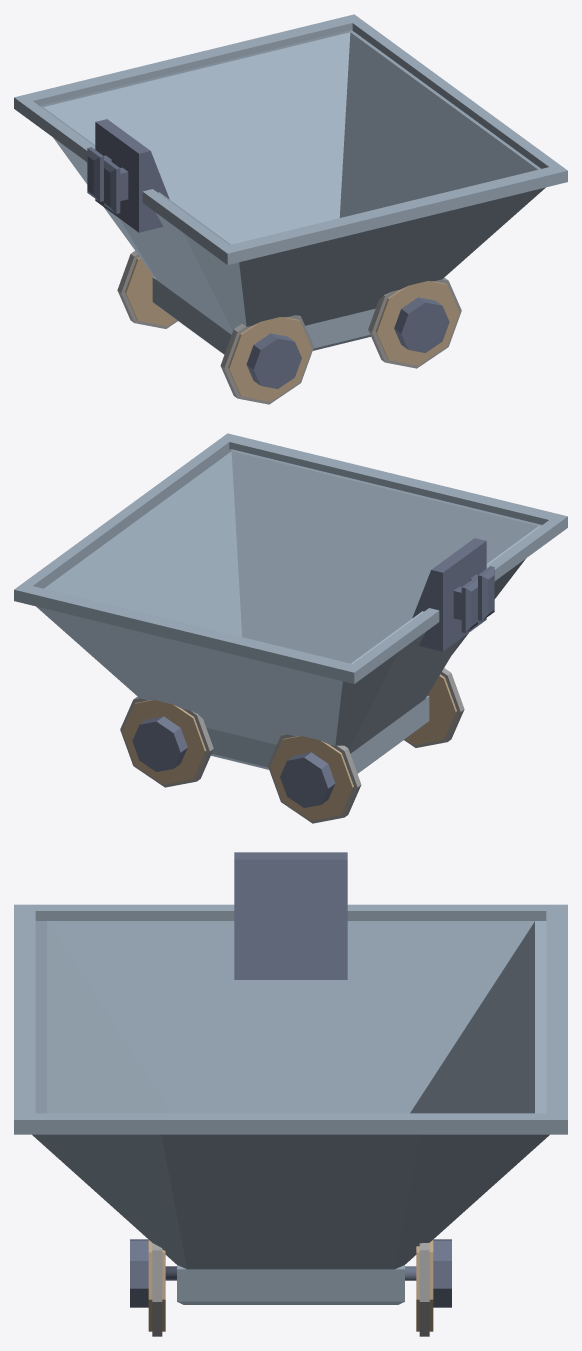
3 renders of one model, top to bottom at view 1: azimuth 30°, elevation 25°; view 2: azimuth 150°, elevation 25°; view 3: azimuth 270°, elevation 25°, orthographic. The views are drawn at different scales.
Visible parts, largest first — view 1: Cube.493, Cylinder.064, Cylinder.067, Cube.510; view 2: Cube.493, Cylinder.064, Cylinder.067, Cube.510; view 3: Cube.493, Cube.510, Cylinder.067.
Part boxes in pixels (bbox=[...]): Cube.493: bbox=[14, 14, 567, 354]; Cylinder.064: bbox=[117, 251, 314, 404]; Cylinder.067: bbox=[368, 277, 461, 368]; Cube.510: bbox=[87, 119, 169, 232]; Cube.493: bbox=[14, 433, 567, 773]; Cylinder.064: bbox=[267, 668, 464, 823]; Cylinder.067: bbox=[120, 696, 213, 787]; Cube.510: bbox=[412, 538, 494, 651]; Cube.493: bbox=[14, 904, 567, 1304]; Cube.510: bbox=[234, 852, 347, 979]; Cylinder.067: bbox=[130, 1239, 451, 1336].
Bounding box in the file's own units: 192 × 127 × 196.
